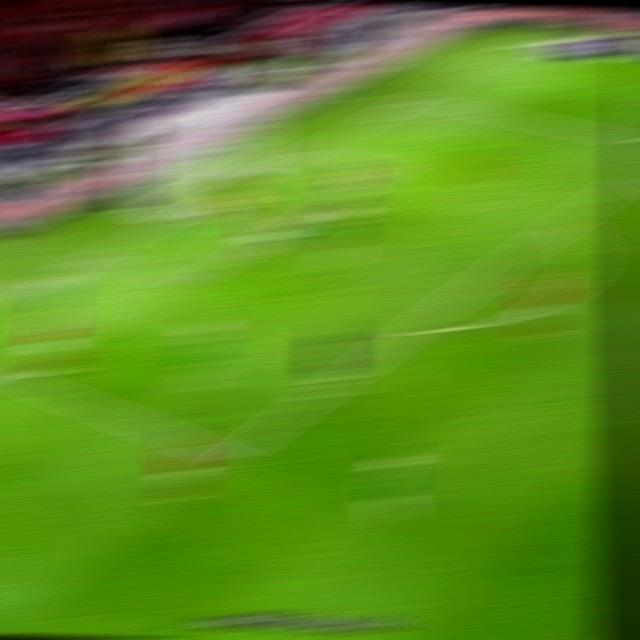bigarea_bottom_inner: (208, 443, 248, 470)
bigarea_top_outter: (400, 90, 433, 104)
bottom_arc_area_intersection: (392, 321, 430, 339)
corner: (509, 36, 545, 43)
smallarea_bottom_inner: (166, 273, 204, 293)
smallarea_bottom_outter: (78, 246, 115, 262)
smallarea_top_inner: (376, 161, 409, 174)
smallarea_top_outter: (295, 141, 330, 155)
top_arc_area_intersection: (549, 216, 580, 229)
